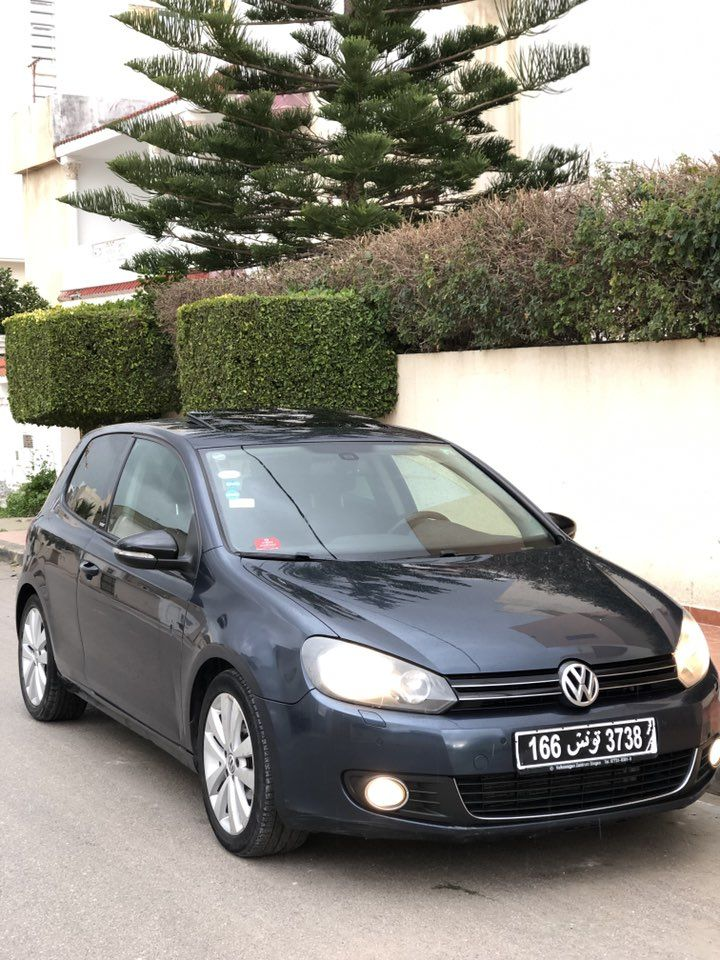LP: (514, 716, 657, 769)
